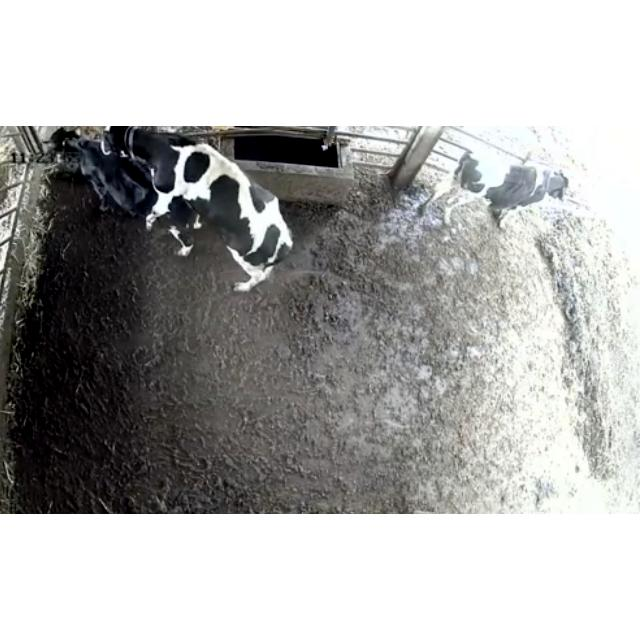ride: (96, 126, 304, 300)
